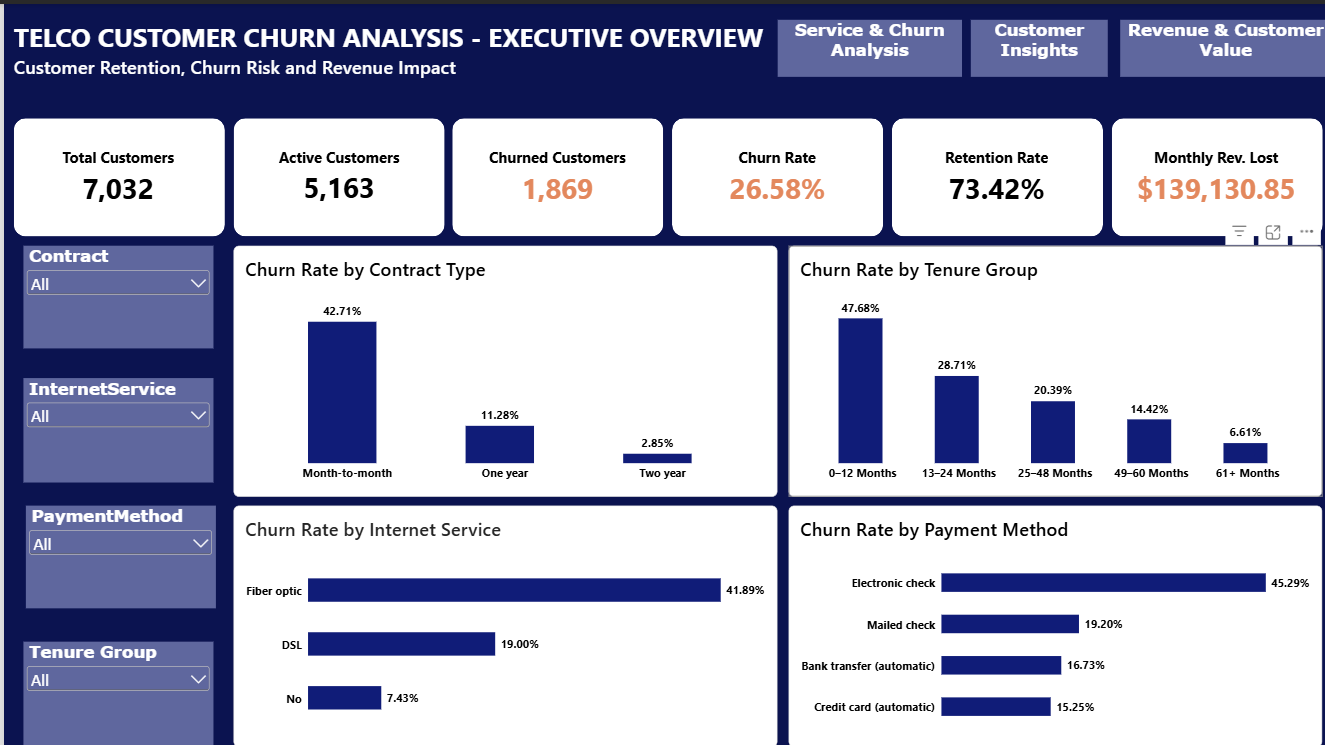

What the dashboard file says about the page in this screenshot:
{"tool":"powerbi","page":{"name":"EXECUTIVE OVERVIEW","canvas":[1920,1080],"ordinal":1},"visuals":[{"type":"shape","box":[14.4,164.7,304.7,170.9],"z":0},{"type":"shape","box":[331.4,164.7,304.6,170.8],"z":1000},{"type":"shape","box":[646.4,164.7,304.6,170.8],"z":2000},{"type":"shape","box":[963.4,164.7,304.6,170.8],"z":3000},{"type":"shape","box":[1280.4,164.7,304.6,170.8],"z":4000},{"type":"shape","box":[1597.4,164.7,304.6,170.8],"z":5000},{"type":"textbox","box":[14.4,20.6,1101.3,65.9],"z":6000},{"type":"textbox","box":[14.4,72,745.2,63.8],"z":7000},{"type":"cardVisual","fields":{"Data":["Telecom_Churn_Dataset.Total Custojmers"]},"box":[28.8,164.7,273.8,170.9],"z":8000},{"type":"cardVisual","fields":{"Data":["Telecom_Churn_Dataset.Active Customers"]},"box":[343.5,164.7,280.4,170],"z":9000},{"type":"cardVisual","fields":{"Data":["Telecom_Churn_Dataset.Revenue Lost"]},"box":[1609.7,164.7,277.9,170.9],"z":10000},{"type":"cardVisual","fields":{"Data":["Telecom_Churn_Dataset.Retention Rate"]},"box":[1288.6,164.7,288.2,170.9],"z":11000},{"type":"cardVisual","fields":{"Data":["Telecom_Churn_Dataset.Churned Customers"]},"box":[658.7,164.7,280,170.9],"z":12000},{"type":"cardVisual","fields":{"Data":["Telecom_Churn_Dataset.Churn Rate"]},"box":[975.7,164.7,280,170.9],"z":13000},{"type":"clusteredColumnChart","title":"Churn Rate by Contract Type","fields":{"Category":["Telecom_Churn_Dataset.Contract"],"Y":["Telecom_Churn_Dataset.Churn Rate"]},"box":[331.4,347.9,784.3,362.3],"z":14000},{"type":"clusteredColumnChart","title":"Churn Rate by Tenure Group","fields":{"Y":["Telecom_Churn_Dataset.Churn Rate"],"Category":["Telecom_Churn_Dataset.Tenure Group"]},"box":[1132.2,347.9,769.9,362.3],"z":15000},{"type":"clusteredBarChart","title":"Churn Rate by Payment Method","fields":{"Y":["Telecom_Churn_Dataset.Churn Rate"],"Category":["Telecom_Churn_Dataset.PaymentMethod"]},"box":[1132.2,724.6,769.9,347.9],"z":16000},{"type":"clusteredBarChart","title":"Churn Rate by Internet Service","fields":{"Category":["Telecom_Churn_Dataset.InternetService"],"Y":["Telecom_Churn_Dataset.Churn Rate"]},"box":[331.4,724.6,784.3,347.9],"z":17000},{"type":"slicer","fields":{"Values":["Telecom_Churn_Dataset.Contract"]},"box":[28.8,347.9,273.8,148.2],"z":18000},{"type":"slicer","fields":{"Values":["Telecom_Churn_Dataset.InternetService"]},"box":[28.8,539.3,273.8,150.3],"z":19000},{"type":"slicer","fields":{"Values":["Telecom_Churn_Dataset.PaymentMethod"]},"box":[30.9,724.6,273.8,148.2],"z":20000},{"type":"slicer","fields":{"Values":["Telecom_Churn_Dataset.Tenure Group"]},"box":[28.8,920.1,273.8,152.3],"z":21000},{"type":"actionButton","title":"Service & Churn Analysis","box":[1115.7,22.6,265.5,82.3],"z":22000},{"type":"actionButton","title":"Revenue & Customer Value","box":[1609.7,22.6,304.7,82.3],"z":23000},{"type":"actionButton","title":"Customer Insights","box":[1395.7,22.6,197.6,82.3],"z":24000}]}

Visuals, with their boxes in screenshot pixels (x1, y1, x2, y2), scaled from the page's 1920x1080 canvas onto the 1325x745 screenshot:
shape: 10:114:220:232
shape: 229:114:439:231
shape: 446:114:656:231
shape: 665:114:875:231
shape: 884:114:1094:231
shape: 1102:114:1313:231
textbox: 10:14:770:60
textbox: 10:50:524:94
cardVisual - Telecom_Churn_Dataset.Total Custojmers: 20:114:209:232
cardVisual - Telecom_Churn_Dataset.Active Customers: 237:114:431:231
cardVisual - Telecom_Churn_Dataset.Revenue Lost: 1111:114:1303:232
cardVisual - Telecom_Churn_Dataset.Retention Rate: 889:114:1088:232
cardVisual - Telecom_Churn_Dataset.Churned Customers: 455:114:648:232
cardVisual - Telecom_Churn_Dataset.Churn Rate: 673:114:867:232
"Churn Rate by Contract Type" clusteredColumnChart: 229:240:770:490
"Churn Rate by Tenure Group" clusteredColumnChart: 781:240:1313:490
"Churn Rate by Payment Method" clusteredBarChart: 781:500:1313:740
"Churn Rate by Internet Service" clusteredBarChart: 229:500:770:740
slicer - Telecom_Churn_Dataset.Contract: 20:240:209:342
slicer - Telecom_Churn_Dataset.InternetService: 20:372:209:476
slicer - Telecom_Churn_Dataset.PaymentMethod: 21:500:210:602
slicer - Telecom_Churn_Dataset.Tenure Group: 20:635:209:740
"Service & Churn Analysis" actionButton: 770:16:953:72
"Revenue & Customer Value" actionButton: 1111:16:1321:72
"Customer Insights" actionButton: 963:16:1100:72
